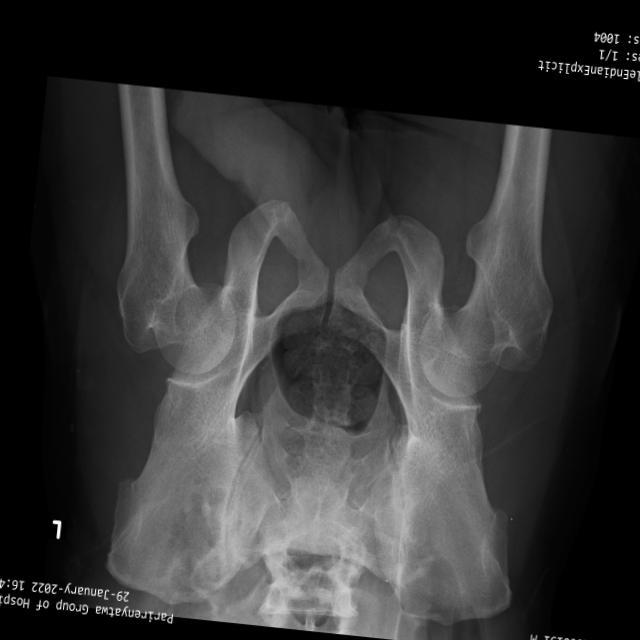normal-left: (115, 82, 235, 373)
normal-right: (417, 123, 551, 397)
